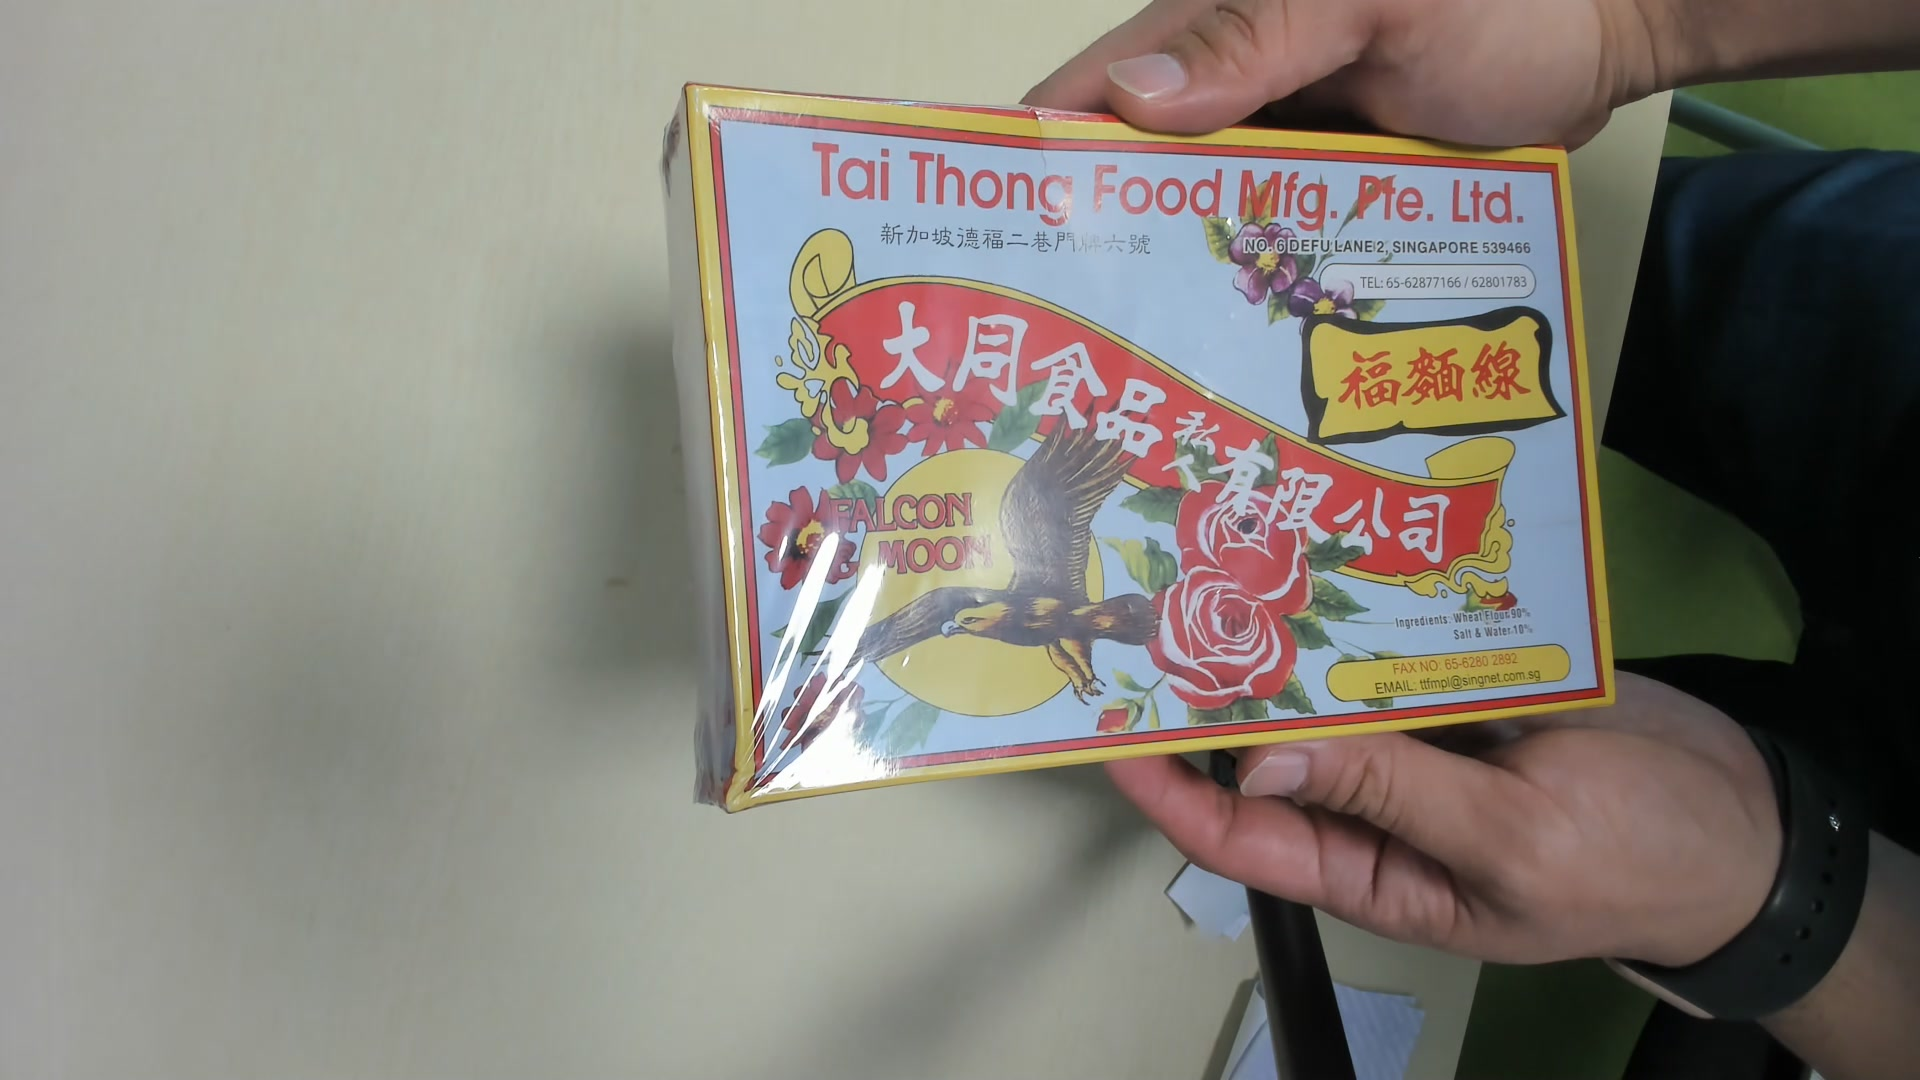BeeHoonVermicelli_0-99g_NonHalal_NonHealthy: (655, 76, 1621, 810)
